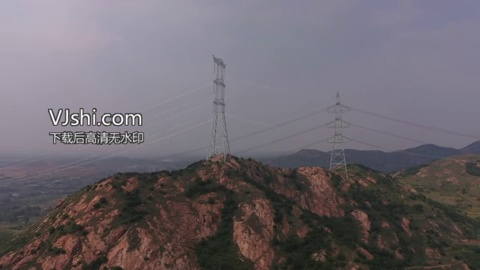tower_body: (206, 51, 237, 163), (324, 89, 353, 180)
tower_foot: (207, 137, 231, 160), (325, 157, 348, 177)
tower_head: (211, 54, 230, 70)
